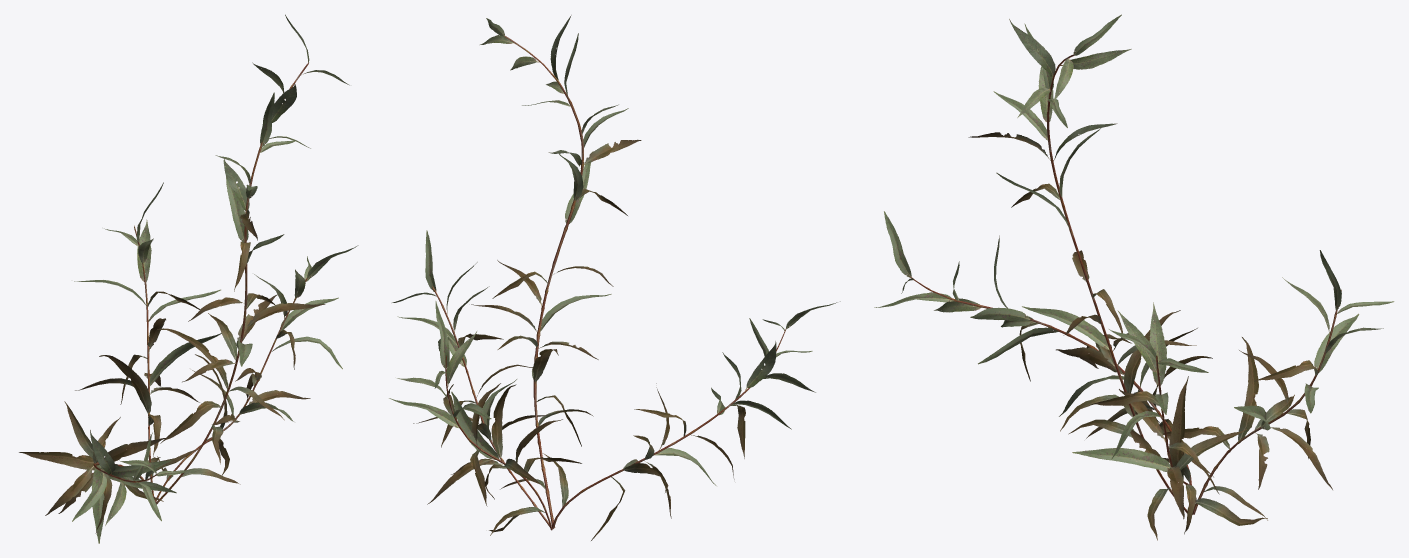
File: shrub02-b-native-512-draco.glb
3 renders of one model, left to right at view 1: azimuth 30°, elevation 25°; view 2: azimuth 150°, elevation 25°; view 3: azimuth 270°, elevation 25°, orthographic. The views are drawn at different scales.
Parts seen in each view (by area): view 1: shrub_02_b; view 2: shrub_02_b; view 3: shrub_02_b.
Part boxes in pixels (box(x1,y1,x2,y2)): shrub_02_b: box(19, 14, 358, 543); shrub_02_b: box(389, 15, 840, 540); shrub_02_b: box(874, 14, 1394, 540).
Size of the model in its own units: 1.11 by 1.51 by 1.28.
1 material, 1 textured.
